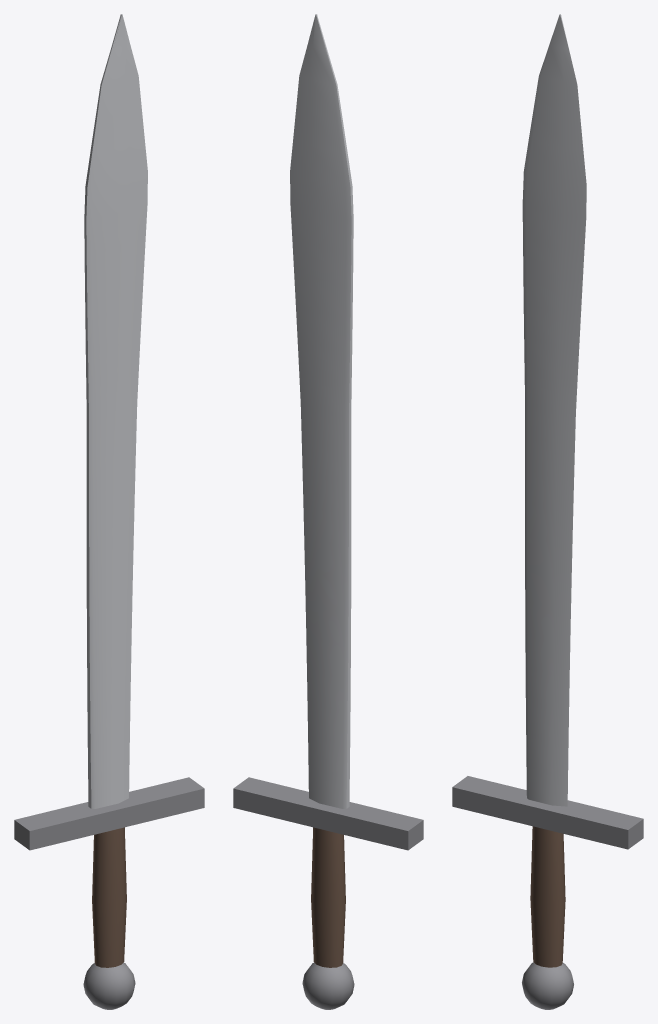
File: falchion.glb
The picture shows the model from 3 angles, left to right: view 1: azimuth 30°, elevation 25°; view 2: azimuth 150°, elevation 25°; view 3: azimuth 330°, elevation 25°; orthographic projection.
Visible parts, largest first — view 1: OUT; view 2: OUT; view 3: OUT.
Part boxes in pixels (<box>): OUT: <box>14,14,204,1009</box>; OUT: <box>233,14,423,1009</box>; OUT: <box>452,14,643,1009</box>.
Size of the model in its own units: 0.17 by 0.92 by 0.0429.
